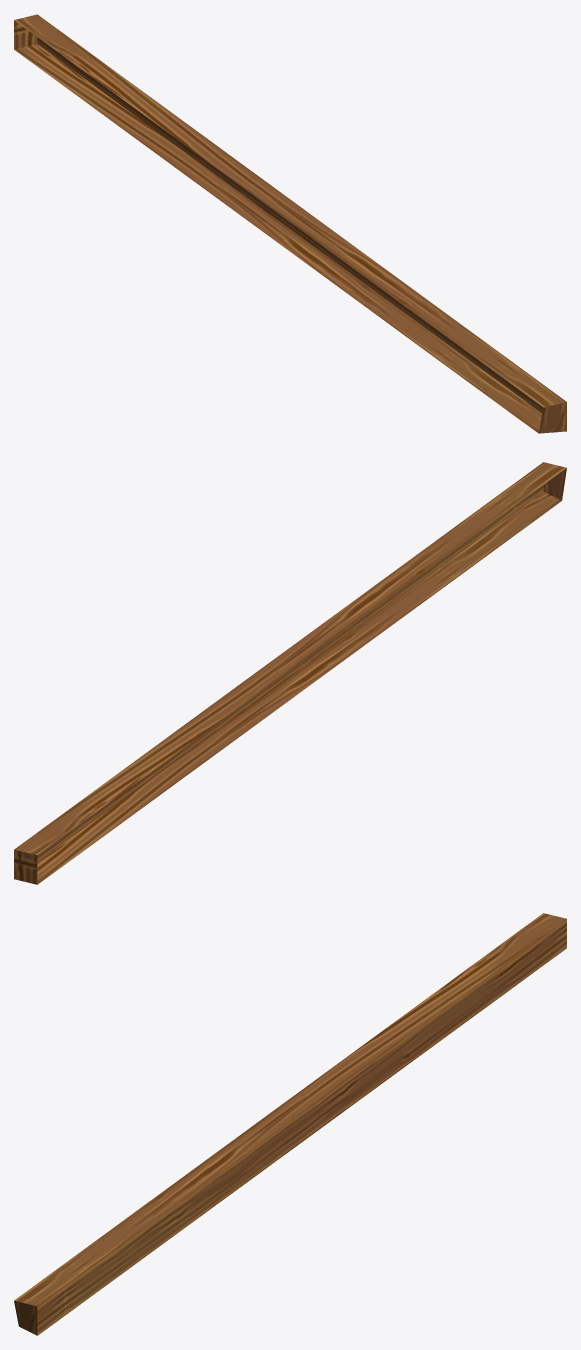
3 views of the same model, one above another, from view 1: azimuth 30°, elevation 25°; view 2: azimuth 150°, elevation 25°; view 3: azimuth 330°, elevation 25° (orthographic).
Parts seen in each view (by area): view 1: Cube.1668; view 2: Cube.1668; view 3: Cube.1668.
Part boxes in pixels (x1,y1,x2,y2): Cube.1668: (14, 14, 566, 433); Cube.1668: (14, 462, 566, 884); Cube.1668: (14, 913, 566, 1335).
Size of the model in its own units: 21.85 by 26.23 by 853.
Materials: 1 (1 with a texture image).
